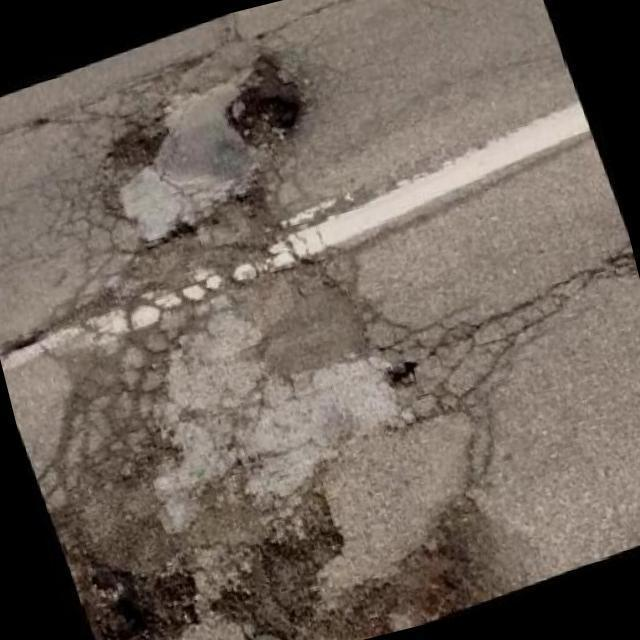Pothole: (212, 491, 344, 640), (88, 561, 200, 640), (235, 98, 299, 148)
